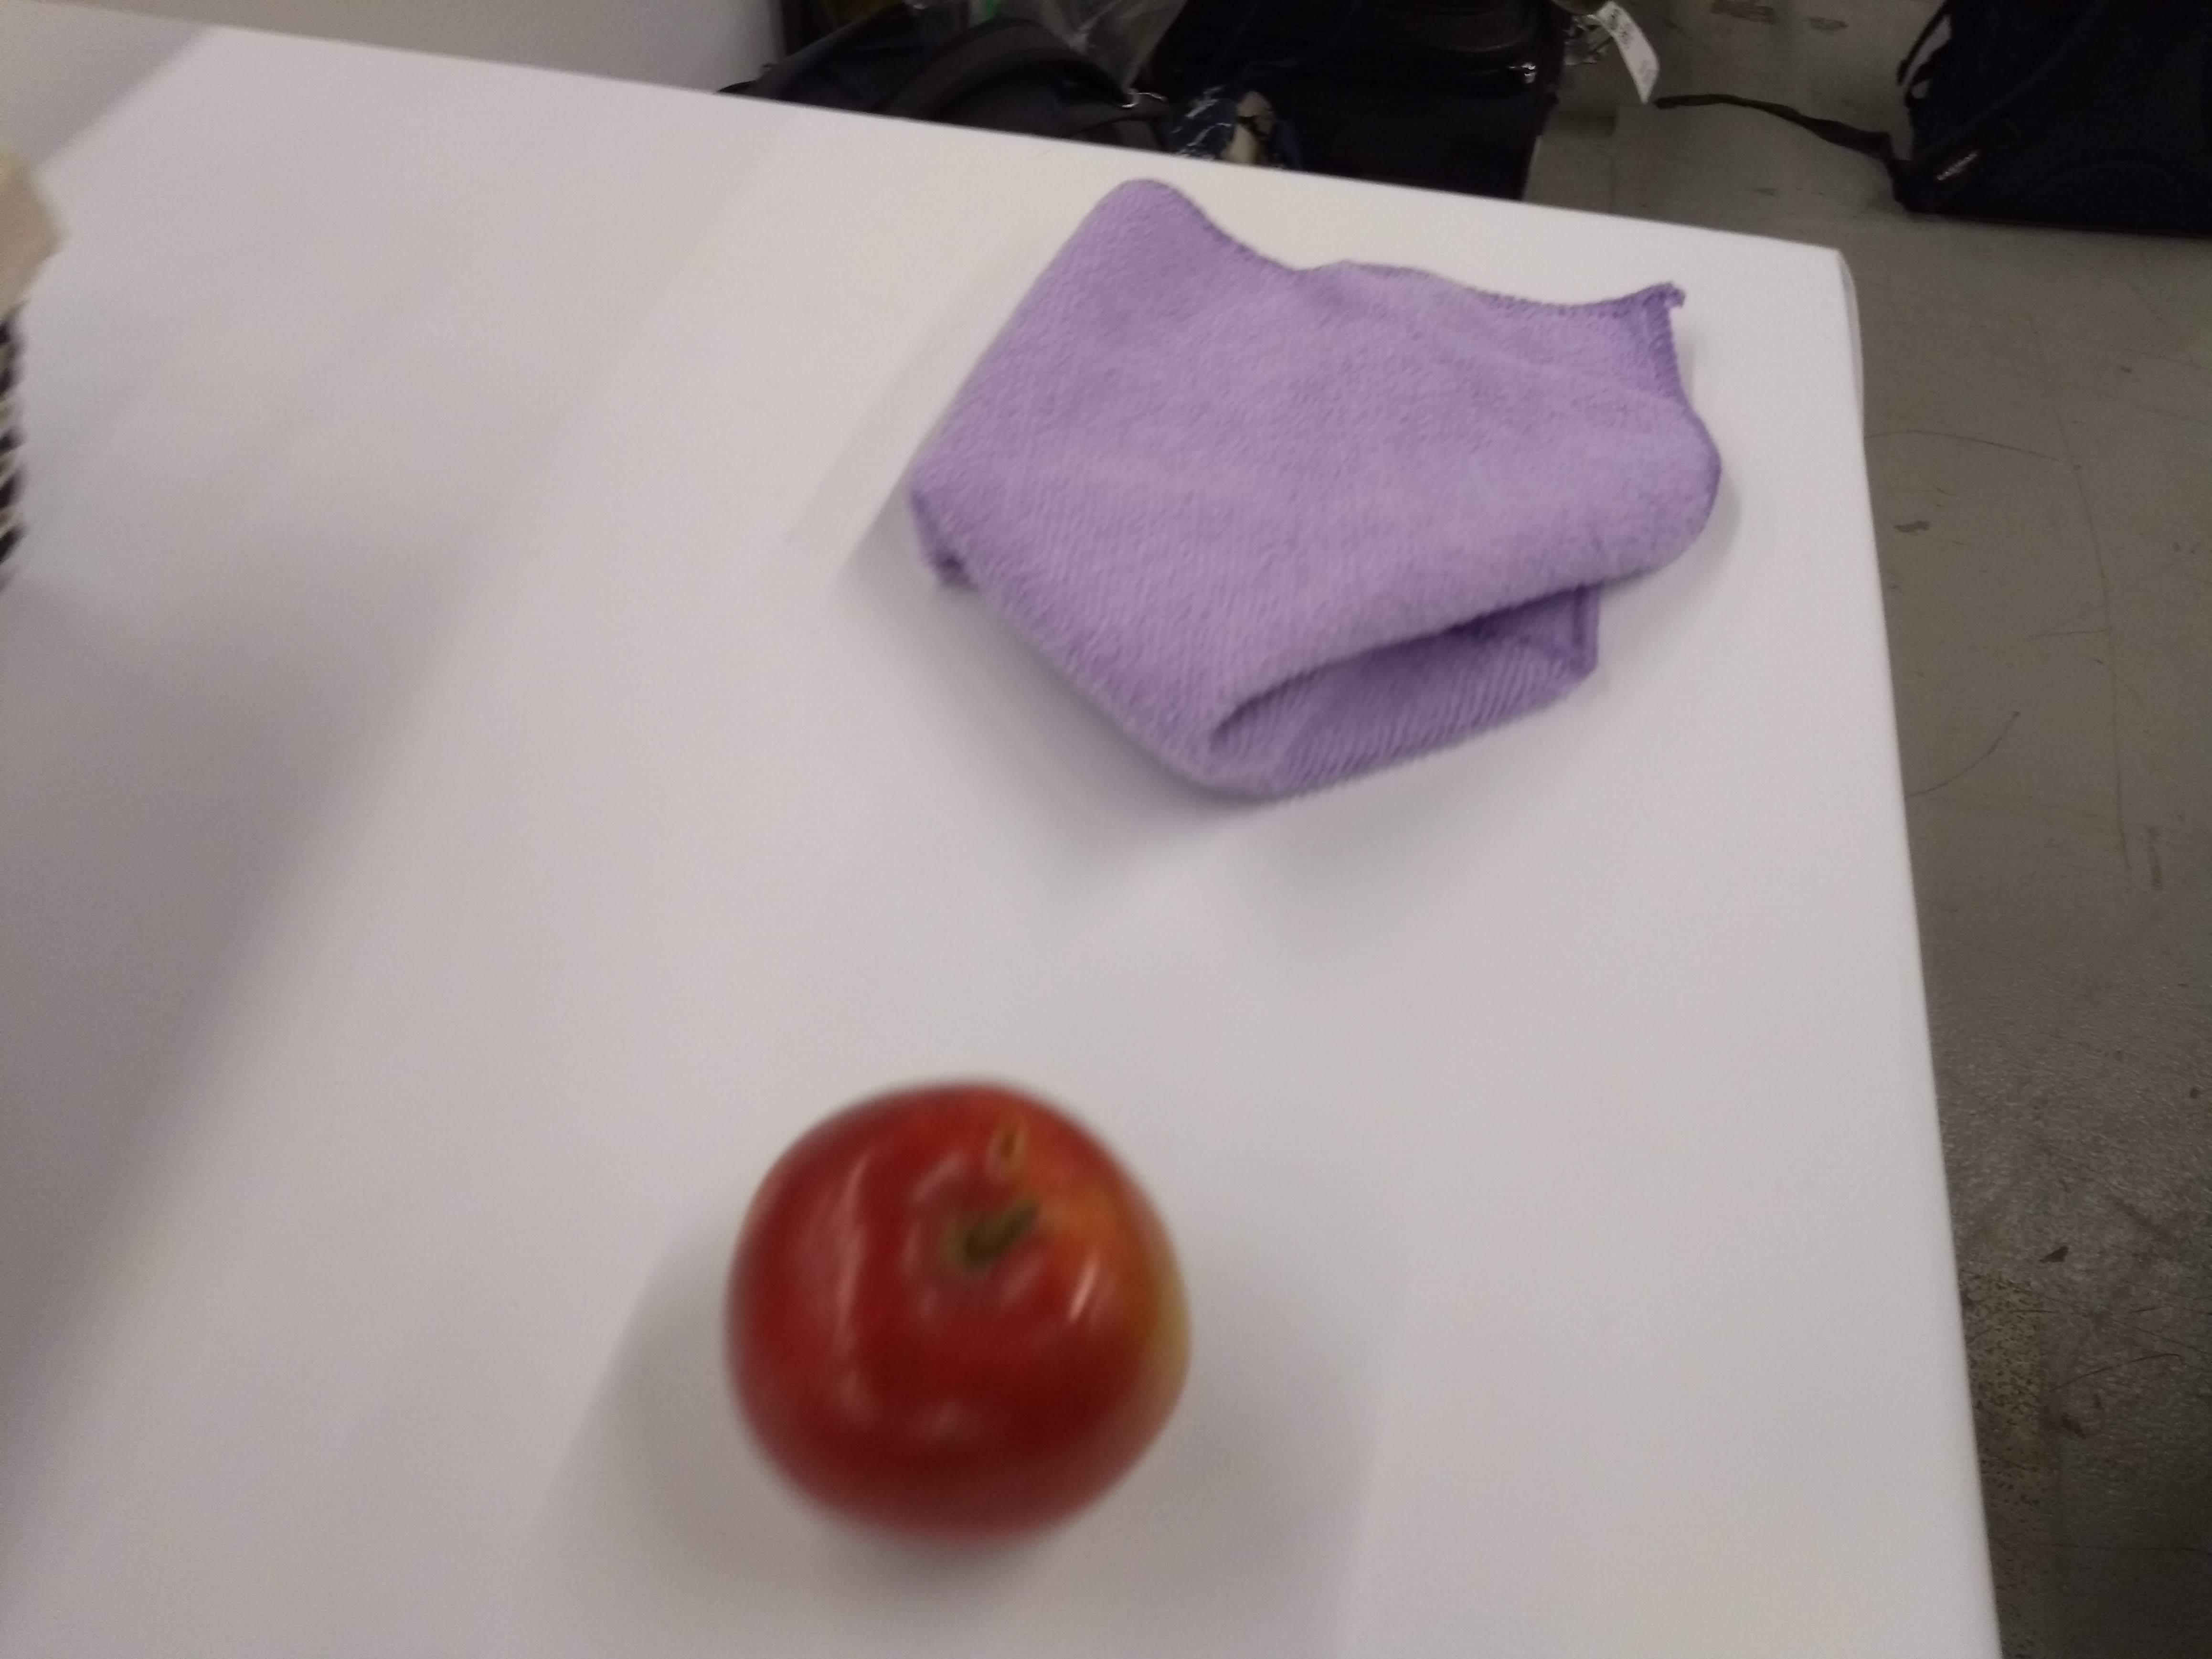apple: (714, 1070, 1221, 1547)
cloth_opl: (885, 162, 1742, 833)
